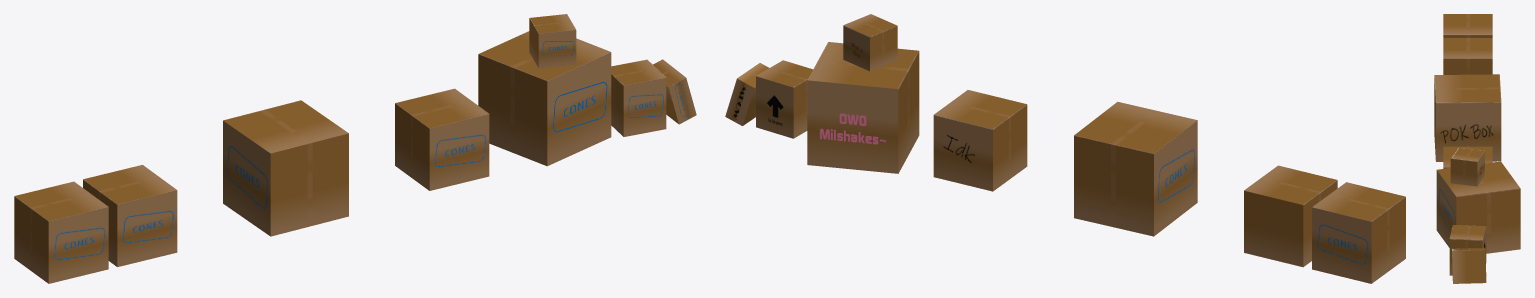
File: Boxes.obj
3 views of the same model, side by side, from view 1: azimuth 30°, elevation 25°; view 2: azimuth 150°, elevation 25°; view 3: azimuth 270°, elevation 25° (orthographic). The views are drawn at different scales.
Visible parts, largest first — view 1: Boxes; view 2: Boxes; view 3: Boxes.
Boxes of the visible parts, x1=… form: Boxes: x1=14, y1=14, x2=696, y2=283; Boxes: x1=725, y1=14, x2=1405, y2=283; Boxes: x1=1434, y1=14, x2=1520, y2=283.
Size of the model in its own units: 3.6 by 0.6375 by 0.5753.
